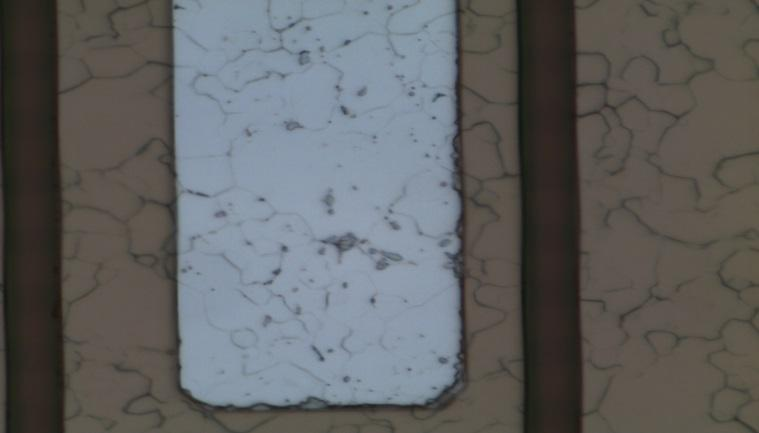COATING BAD: (164, 1, 479, 422)
